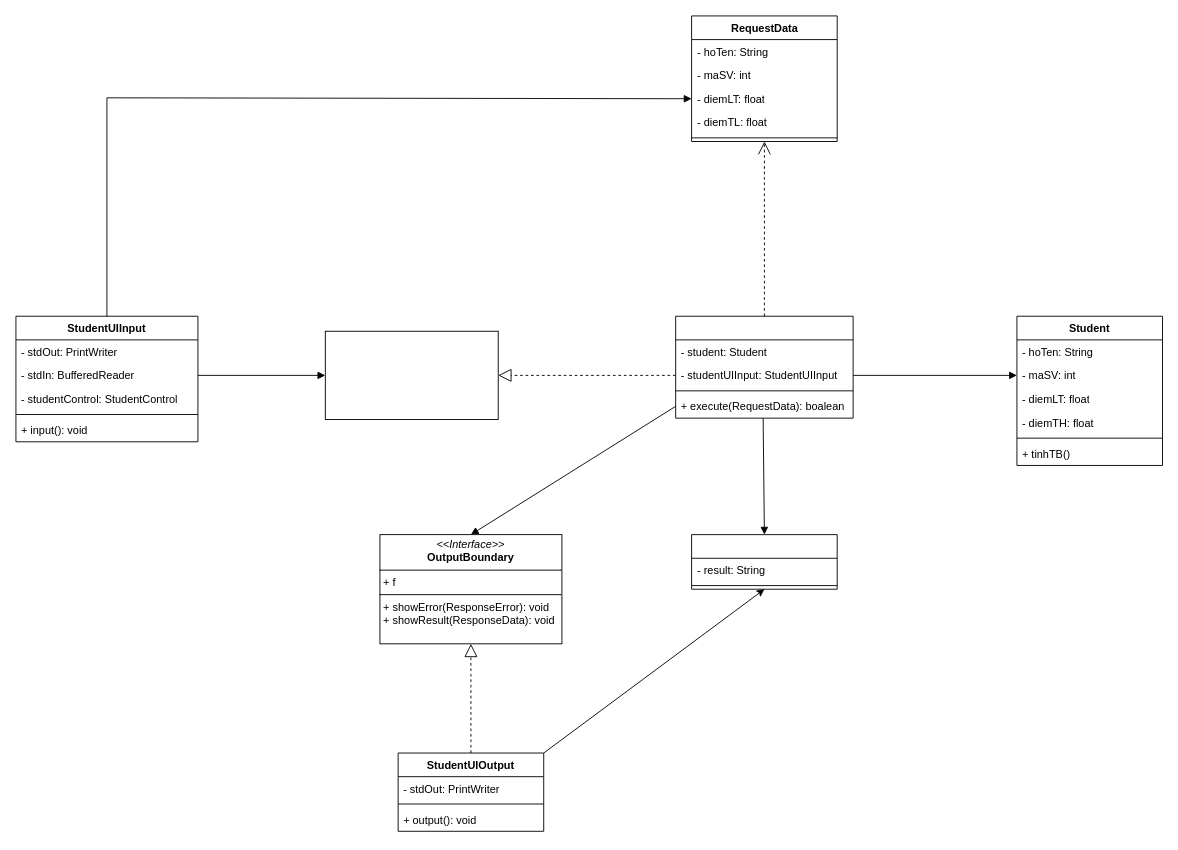
This 1178x850 diagram has some shape labels left out. The box of each missing label's shape, as (x1, y1, x2, y2) in pixels:
<<Interface>> InputBoundary + f + execute(RequestData): void: (324, 330, 498, 420)
ReponsetData: (691, 534, 837, 589)
StudentControl: (675, 315, 853, 418)
